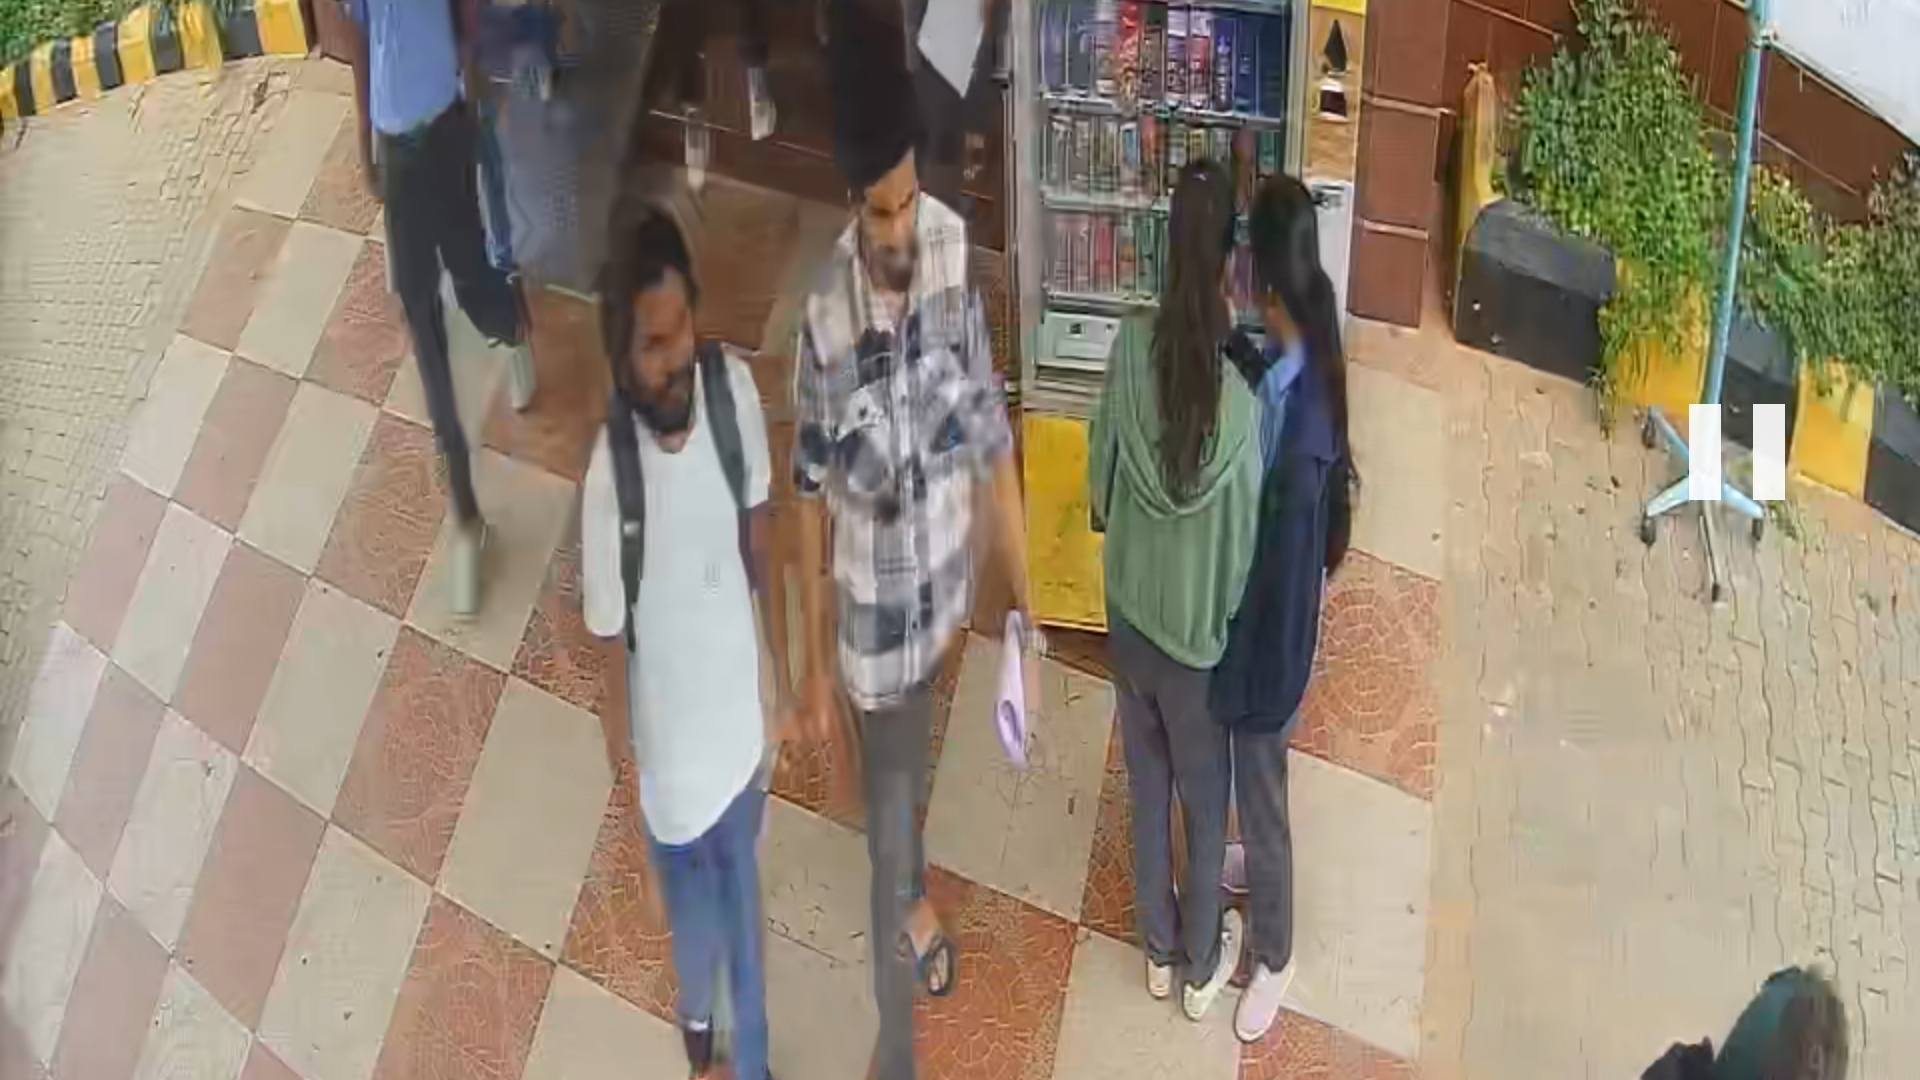intruder: (804, 102, 1011, 1080), (567, 183, 783, 1080)
